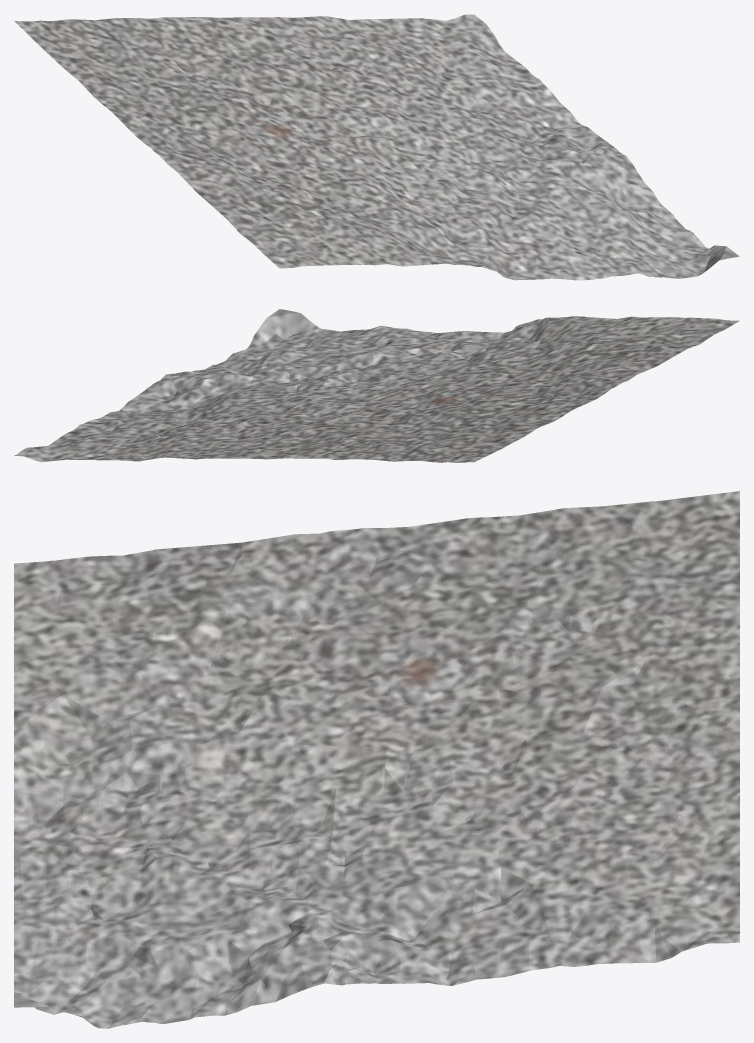
The picture shows the model from 3 angles, top to bottom: view 1: azimuth 30°, elevation 25°; view 2: azimuth 150°, elevation 25°; view 3: azimuth 270°, elevation 25°; orthographic projection. The views are drawn at different scales.
Bounding box in the file's own units: 0.8373 × 0.2941 × 0.8373.
3 materials, 3 textured.
